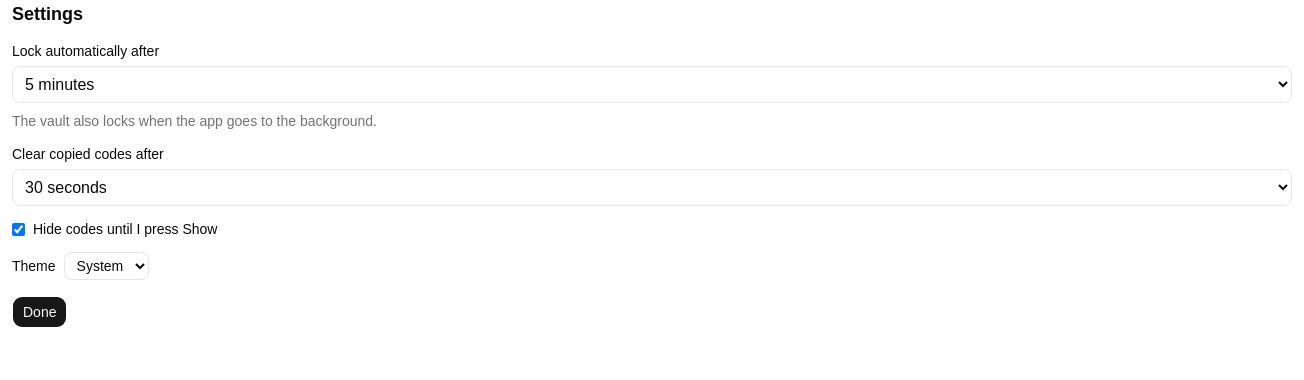
Test: SettingsScreen › reports when the core refuses a change
Select "1 minute" in the dropdown labelled "Lock automatically after". click: [652, 84]
box: [12,66,1292,103]
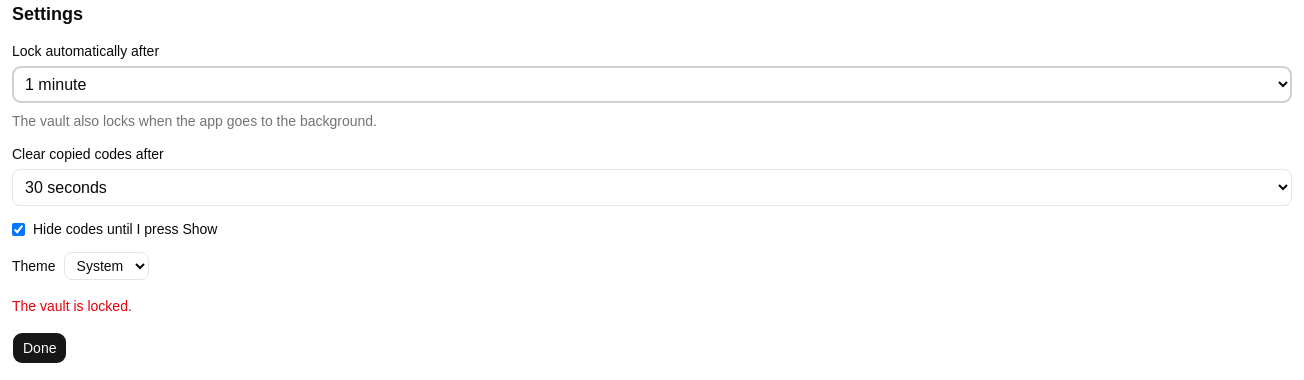
Expected: the message reads "The vault is locked.", [12,298,132,314]
